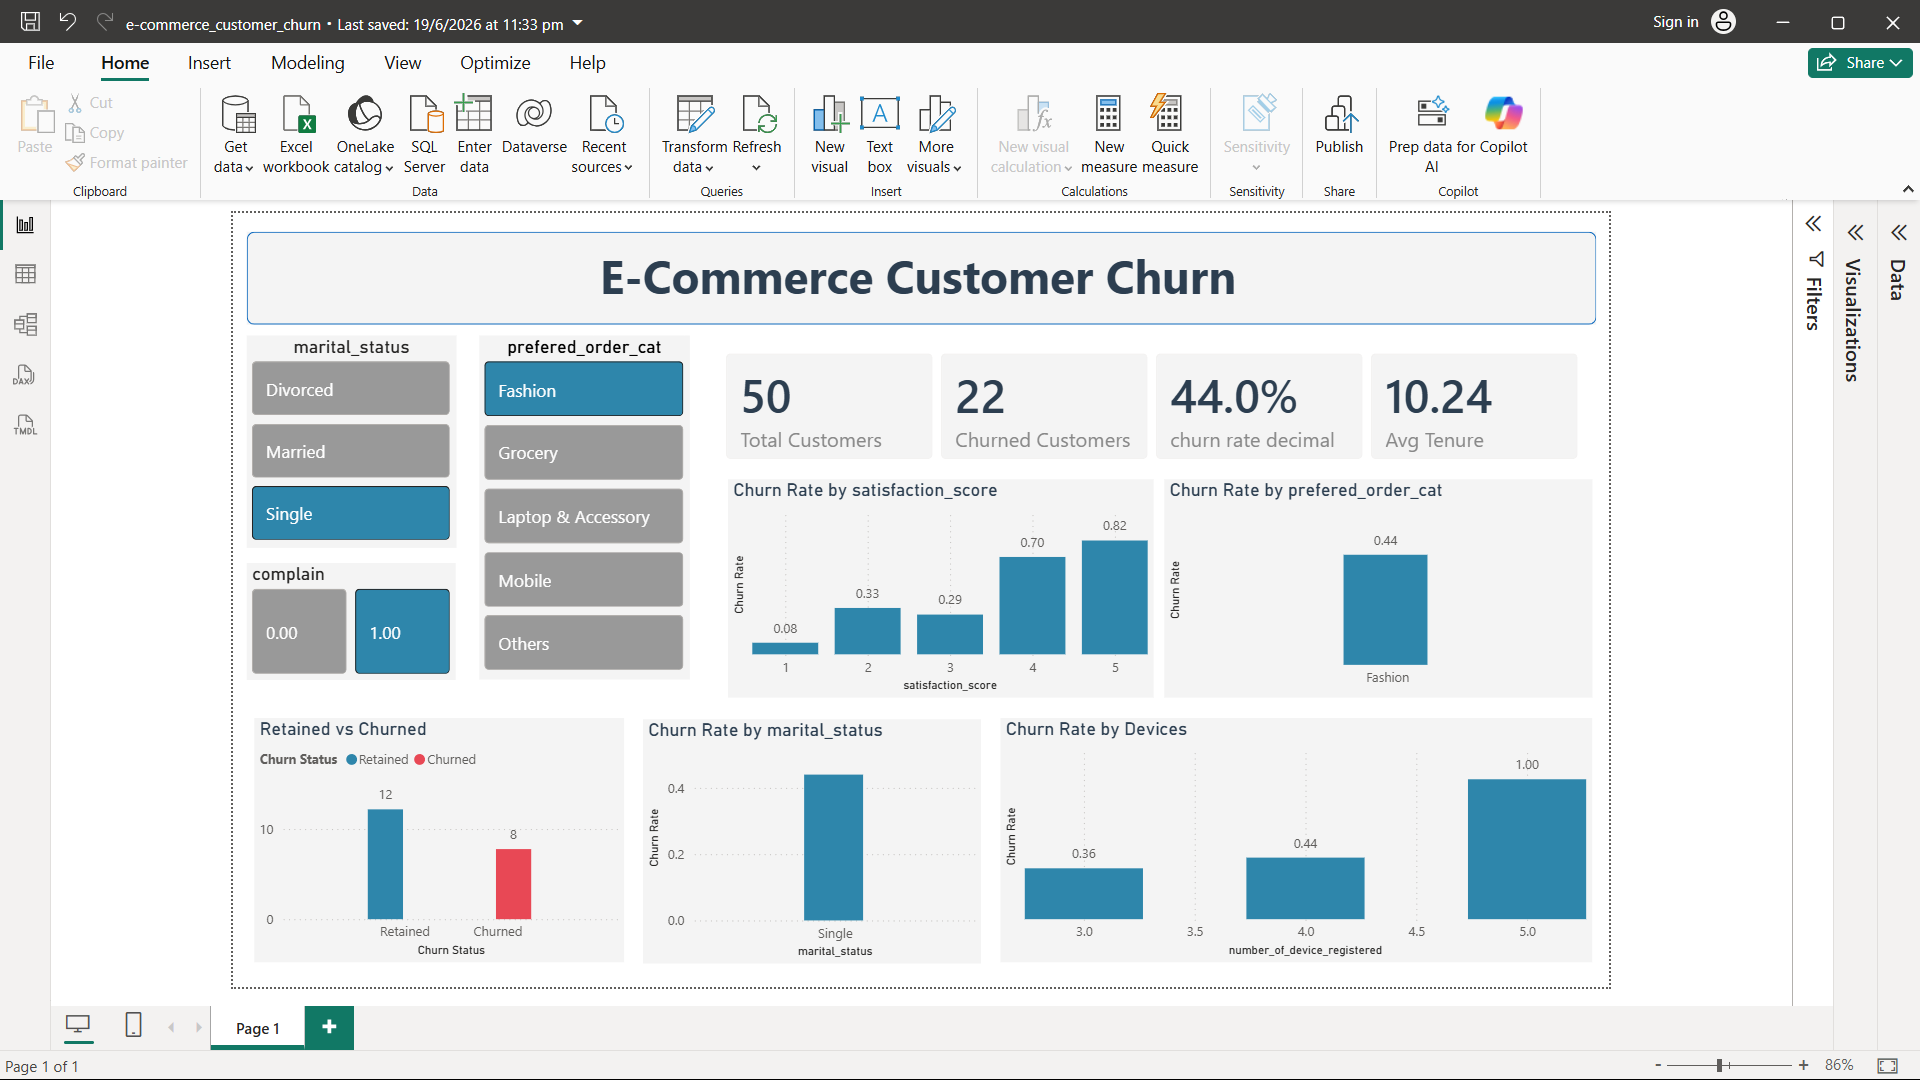

The dashboard page shown, as its layout file describes it:
{"tool":"powerbi","page":{"name":"Page 1","canvas":[1280,720],"ordinal":0},"visuals":[{"type":"shape","box":[12.3,17.8,1255.6,86.4],"z":2000},{"type":"textbox","box":[108.4,24.7,1058,71.4],"z":3000},{"type":"cardVisual","fields":{"Data":["public customers_clean.Total Customers","public customers_clean.Churned Customers","public customers_clean.churn rate decimal","public customers_clean.Avg Tenure"]},"box":[441.4,114.3,827.1,132.9],"z":3001},{"type":"clusteredColumnChart","fields":{"Category":["public transactions_clean.satisfaction_score"],"Y":["public customers_clean.Churn Rate"]},"box":[460,247.1,395.7,202.9],"z":3002},{"type":"clusteredColumnChart","title":"Churn Rate by marital_status","fields":{"Y":["public customers_clean.Churn Rate","public customers_clean.Churn Rate"],"Category":["public customers_clean.marital_status"]},"box":[381.4,471.4,314.3,227.1],"z":3003},{"type":"clusteredColumnChart","fields":{"Category":["public customers_clean.prefered_order_cat"],"Y":["public customers_clean.Churn Rate"]},"box":[865.7,247.1,398.6,202.9],"z":3004},{"type":"clusteredColumnChart","title":"Retained  vs Churned","fields":{"Y":["public customers_clean.Avg Tenure"],"Category":["public customers_clean.Churn Status"],"Series":["public customers_clean.Churn Status"]},"box":[20,470,344.3,227.1],"z":3005},{"type":"clusteredColumnChart","title":"Churn Rate by Devices","fields":{"Category":["public customers_clean.number_of_device_registered"],"Y":["public customers_clean.Churn Rate"]},"box":[714.3,470,550,227.1],"z":3006},{"type":"advancedSlicerVisual","fields":{"Values":["public customers_clean.marital_status"]},"box":[12.3,113.9,194.9,197.6],"z":3007},{"type":"advancedSlicerVisual","fields":{"Values":["public customers_clean.prefered_order_cat"]},"box":[228.6,114.3,195.7,320],"z":3008},{"type":"advancedSlicerVisual","fields":{"Values":["public transactions_clean.complain"]},"box":[12.9,325.7,194.3,108.6],"z":3009}]}

Visuals, with their boxes on the page's 1280x720 design canvas (x1, y1, x2, y2). These are canvas units, not pixel positions in the 1920x1080 screenshot, which may show the page scaled, cropped or inside an application window:
shape: rect(12, 18, 1268, 104)
textbox: rect(108, 25, 1166, 96)
cardVisual - public customers_clean.Total Customers x public customers_clean.Churned Customers: rect(441, 114, 1268, 247)
clusteredColumnChart - public transactions_clean.satisfaction_score x public customers_clean.Churn Rate: rect(460, 247, 856, 450)
"Churn Rate by marital_status" clusteredColumnChart: rect(381, 471, 696, 698)
clusteredColumnChart - public customers_clean.prefered_order_cat x public customers_clean.Churn Rate: rect(866, 247, 1264, 450)
"Retained  vs Churned" clusteredColumnChart: rect(20, 470, 364, 697)
"Churn Rate by Devices" clusteredColumnChart: rect(714, 470, 1264, 697)
advancedSlicerVisual - public customers_clean.marital_status: rect(12, 114, 207, 312)
advancedSlicerVisual - public customers_clean.prefered_order_cat: rect(229, 114, 424, 434)
advancedSlicerVisual - public transactions_clean.complain: rect(13, 326, 207, 434)
